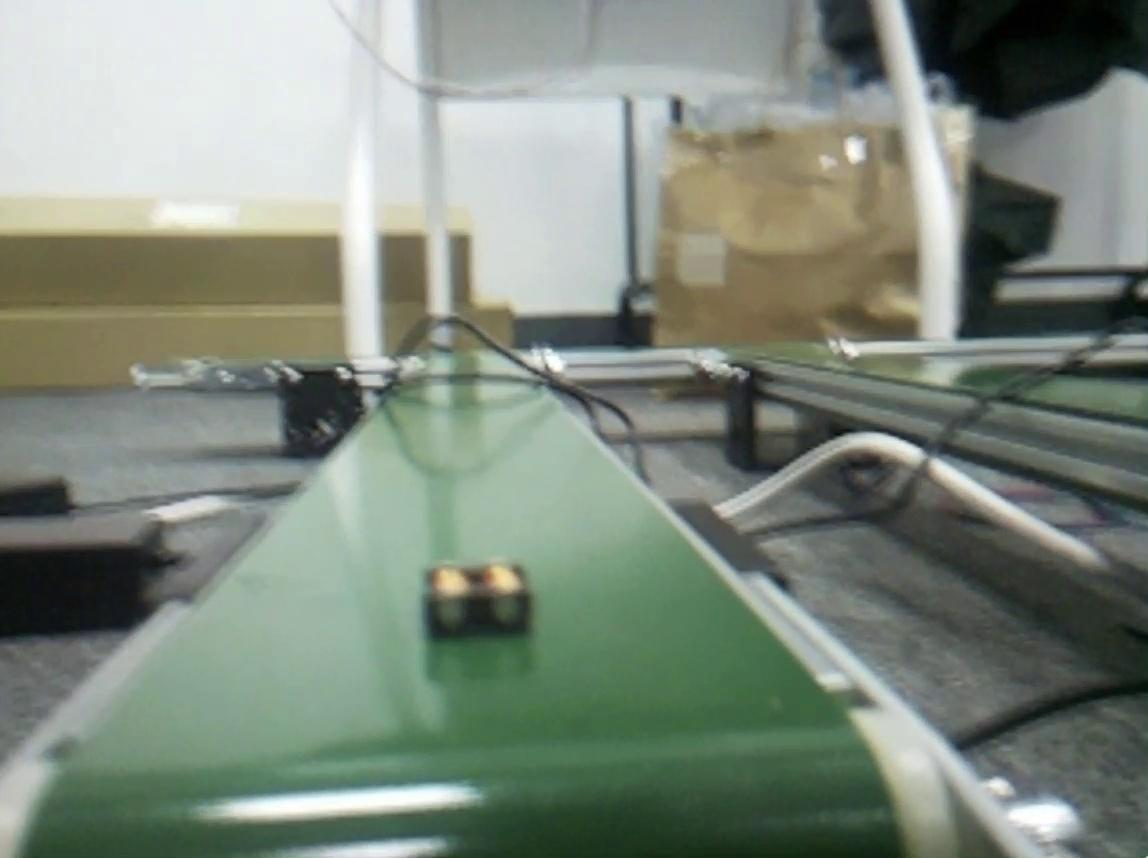inductor: (428, 563, 534, 631)
